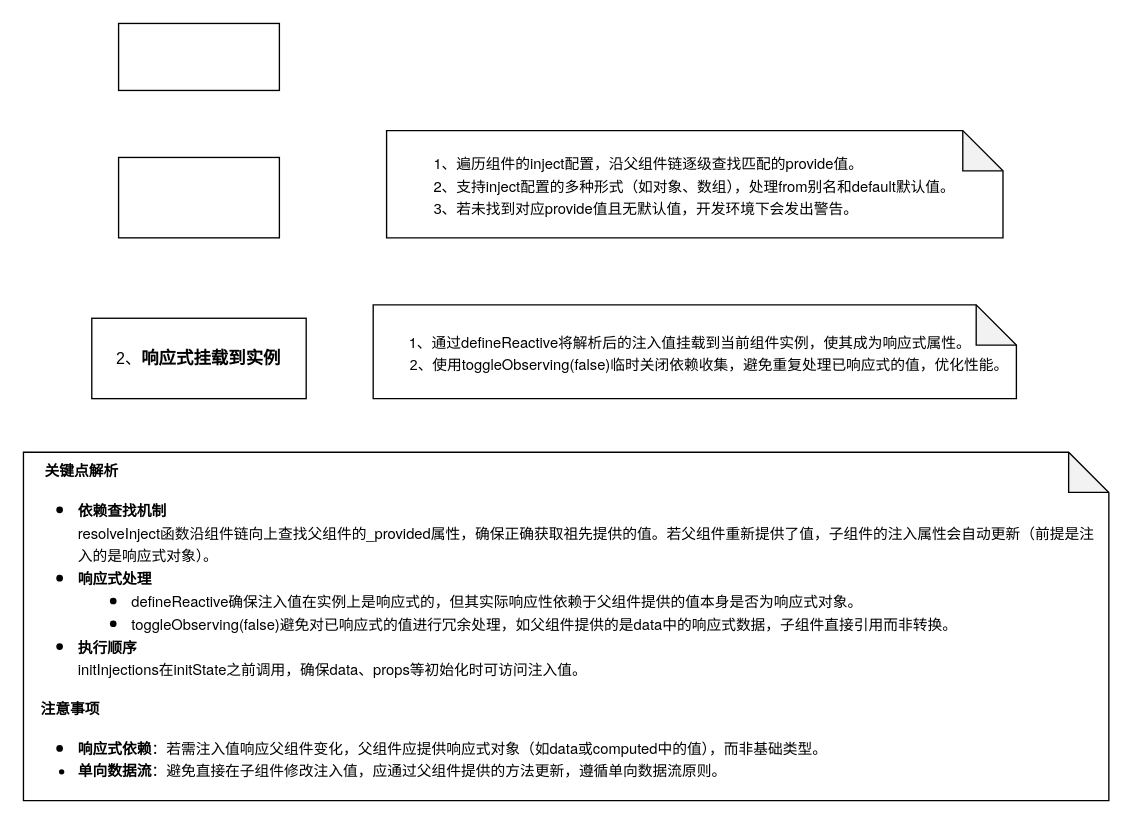
Some shapes in this 1132 by 824 pixel diagram are drawn without their labels. Here are the shapes that lost their labels. From the top down, the centre of each, then its label:
At (x=198, y=56): "initInjections".
At (x=198, y=197): "1、解析注入配置".
